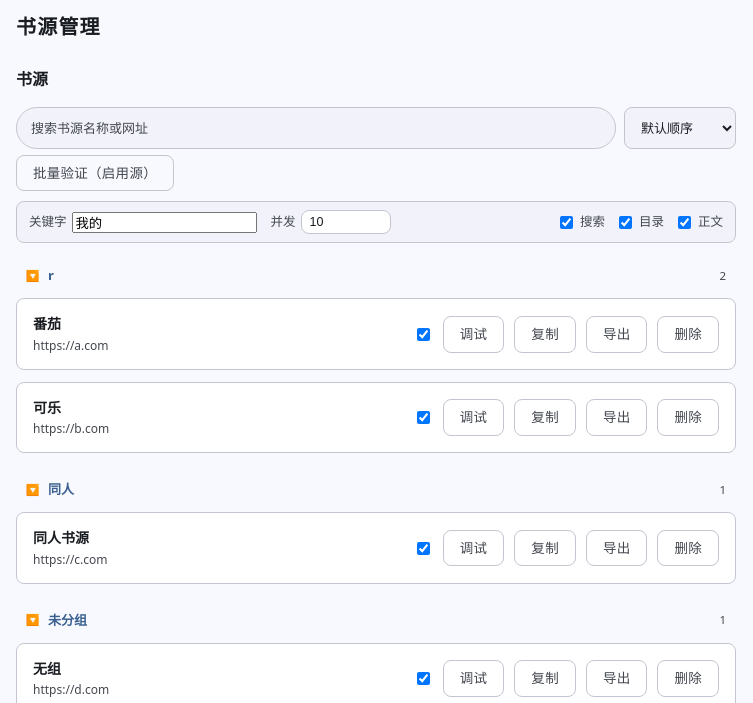
Test: BookSourceManager › collapses a group on header click and hides its sources
Click the text "r": (51, 276) top-left (48, 266), bottom-right (54, 286)
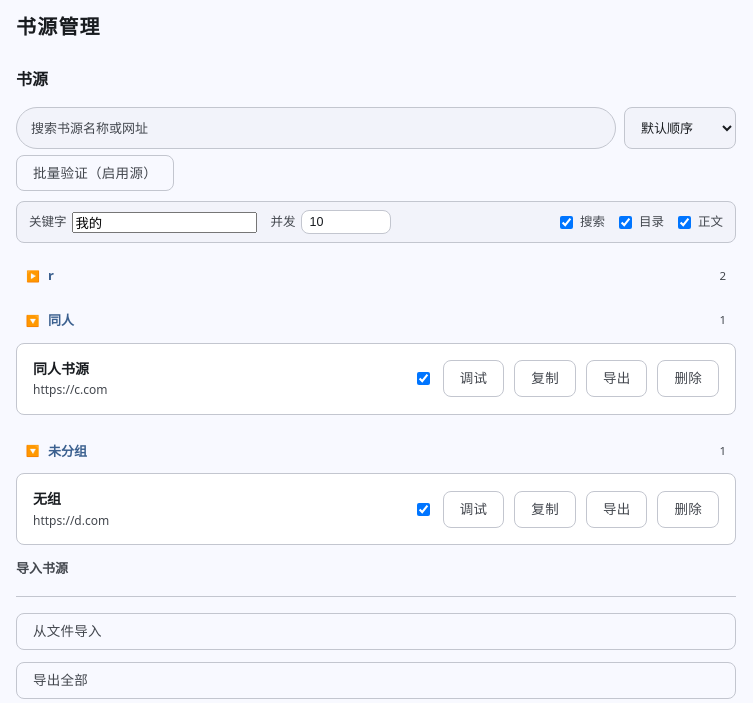
Expected: the text "同人" is shown, top-left (48, 310), bottom-right (74, 331)
Result: the text "番茄" is gone
Click the text "r": (51, 276) top-left (48, 266), bottom-right (54, 286)
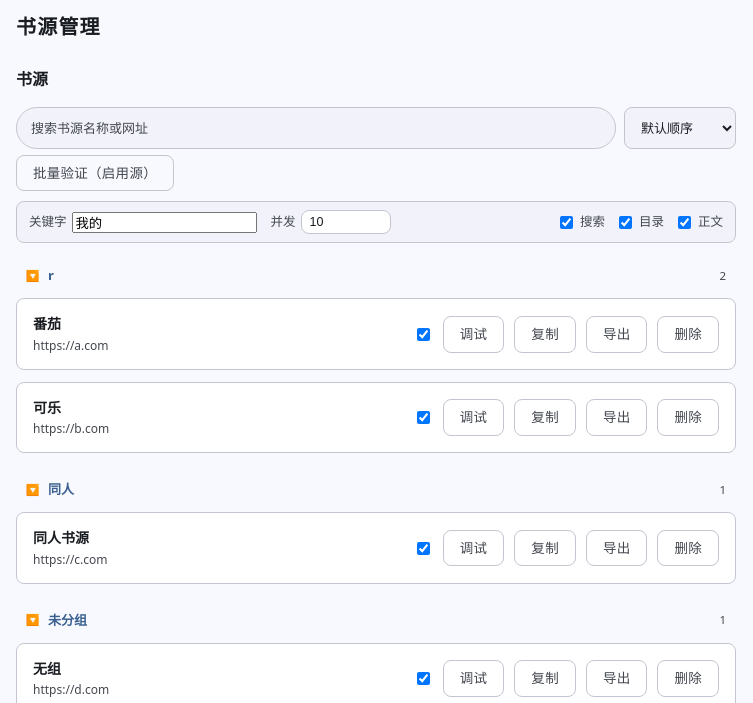
Result: the text "番茄" is shown at top-left (33, 314), bottom-right (61, 333)
